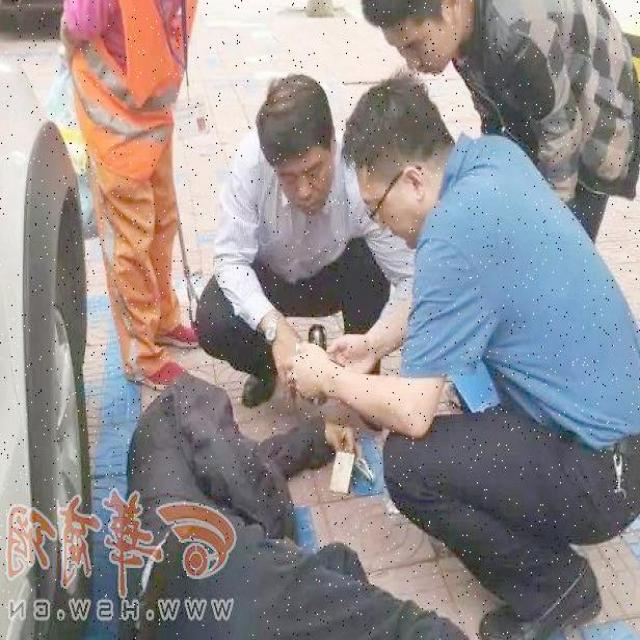fall: (131, 386, 338, 638)
